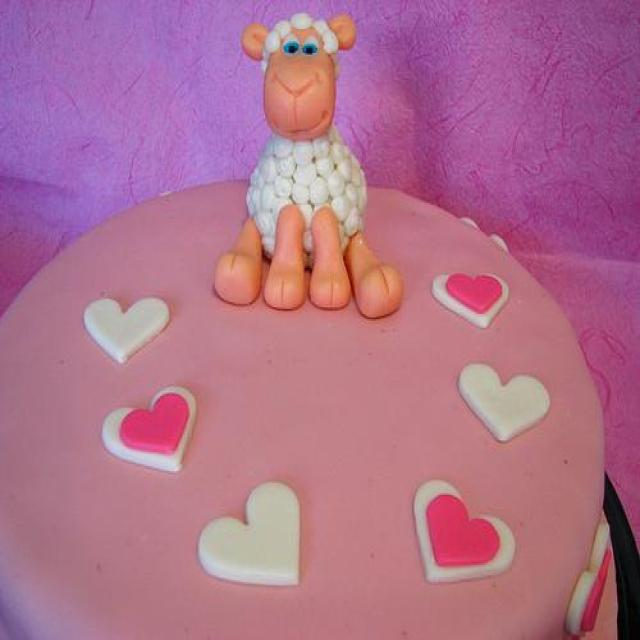Sheep: (212, 10, 411, 319)
